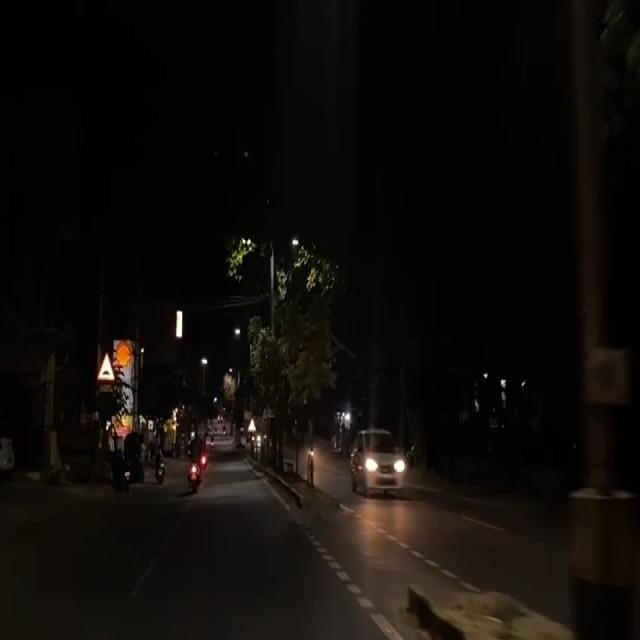bien_nguy_hiem: (97, 348, 116, 385)
